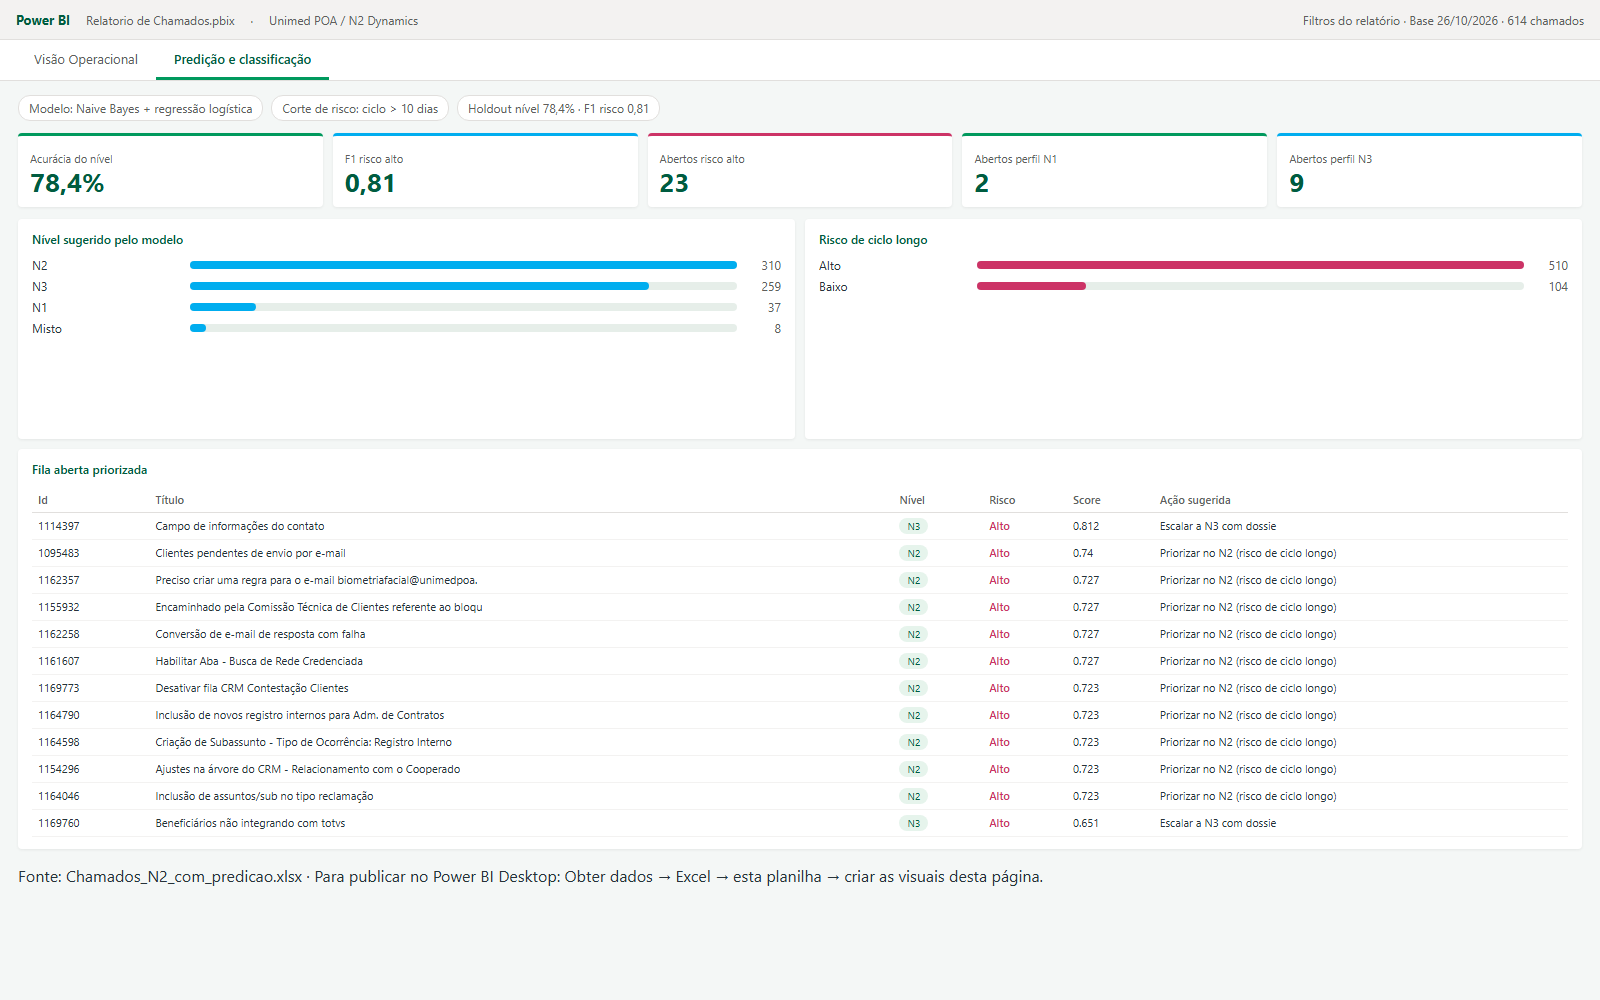

What the dashboard file says about the page in this screenshot:
{"tool":"powerbi","page":{"name":"Predição e Classificação","canvas":[1920,1080],"ordinal":1},"visuals":[{"type":"textbox","box":[0,0,1920,74],"z":0},{"type":"slicer","title":"Nível Preditivo (ML)","fields":{"Values":["Chamados.Nivel predito (ML)"]},"box":[0,74,538,88],"z":1},{"type":"slicer","title":"Risco Ciclo Longo","fields":{"Values":["Chamados.Risco ciclo longo"]},"box":[538,76,398,86],"z":2},{"type":"slicer","title":"Ação Sugerida","fields":{"Values":["Chamados.Acao sugerida"]},"box":[936,76,650,86],"z":3},{"type":"slicer","title":"Aberto","fields":{"Values":["Chamados.Aberto"]},"box":[1586,76,334,86],"z":4},{"type":"cardVisual","fields":{"Data":["Chamados.Abertos"]},"box":[0,162,368,94],"z":5},{"type":"cardVisual","fields":{"Data":["Chamados.Risco Alto Abertos"]},"box":[368,162,374,94],"z":6},{"type":"cardVisual","fields":{"Data":["Chamados.Abertos N1"]},"box":[742,162,386,94],"z":7},{"type":"cardVisual","fields":{"Data":["Chamados.Abertos N3"]},"box":[1128,162,388,94],"z":8},{"type":"cardVisual","fields":{"Data":["Avg(Chamados.Score risco)"]},"box":[1516,162,404,94],"z":9},{"type":"donutChart","title":"Risco de ciclo longo","fields":{"Category":["Chamados.Risco ciclo longo"],"Y":["CountNonNull(Chamados.Id Chamado Qualitor)"]},"box":[0,256,742,236],"z":10},{"type":"barChart","title":"Nível sugerido pelo modelo","fields":{"Category":["Chamados.Nivel predito (ML)"],"Y":["CountNonNull(Chamados.Id Chamado Qualitor)"]},"box":[742,256,1178,236],"z":11},{"type":"tableEx","title":"Fila aberta priorizada","fields":{"Values":["Chamados.Id Chamado Qualitor","Chamados.Titulo","Chamados.Nivel predito (ML)","Chamados.Confianca nivel","Chamados.Risco ciclo longo","Chamados.Score risco","Chamados.Acao sugerida","Chamados.Razao do Status","Chamados.Responsavel"]},"box":[0,492,1920,578],"z":12}]}

Visuals, with their boxes on the page's 1920x1080 design canvas (x1, y1, x2, y2). These are canvas units, not pixel positions in the 1600x1000 screenshot, which may show the page scaled, cropped or inside an application window:
textbox: crop(0, 0, 1920, 74)
"Nível Preditivo (ML)" slicer: crop(0, 74, 538, 162)
"Risco Ciclo Longo" slicer: crop(538, 76, 936, 162)
"Ação Sugerida" slicer: crop(936, 76, 1586, 162)
"Aberto" slicer: crop(1586, 76, 1920, 162)
cardVisual - Chamados.Abertos: crop(0, 162, 368, 256)
cardVisual - Chamados.Risco Alto Abertos: crop(368, 162, 742, 256)
cardVisual - Chamados.Abertos N1: crop(742, 162, 1128, 256)
cardVisual - Chamados.Abertos N3: crop(1128, 162, 1516, 256)
cardVisual - Avg(Chamados.Score risco): crop(1516, 162, 1920, 256)
"Risco de ciclo longo" donutChart: crop(0, 256, 742, 492)
"Nível sugerido pelo modelo" barChart: crop(742, 256, 1920, 492)
"Fila aberta priorizada" tableEx: crop(0, 492, 1920, 1070)
